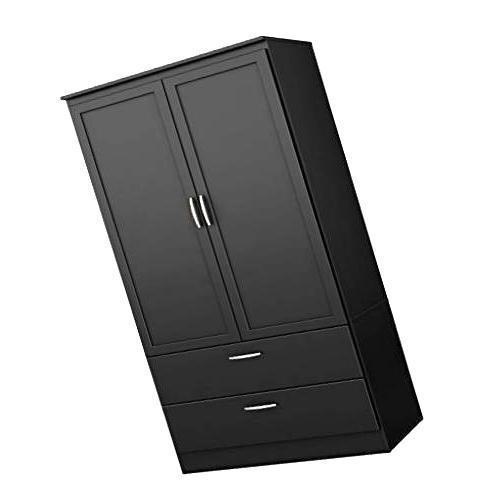Armario: (53, 34, 426, 481)
